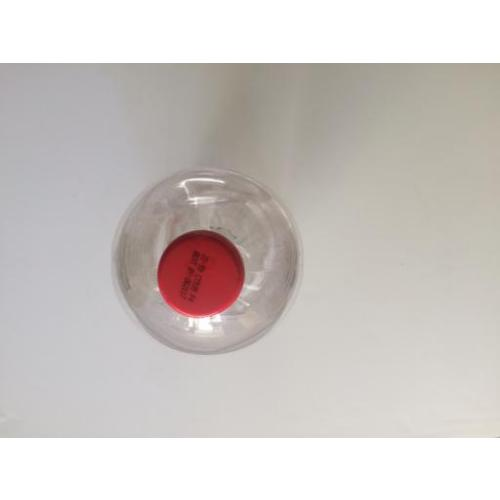plastic: (113, 167, 302, 359)
